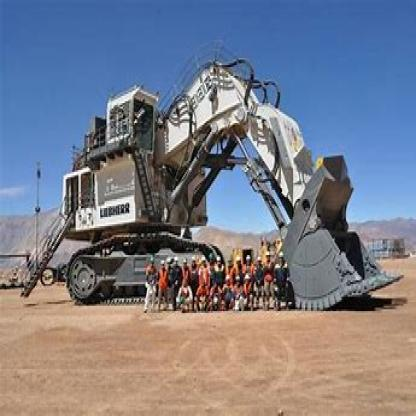excavator: (27, 53, 408, 349)
